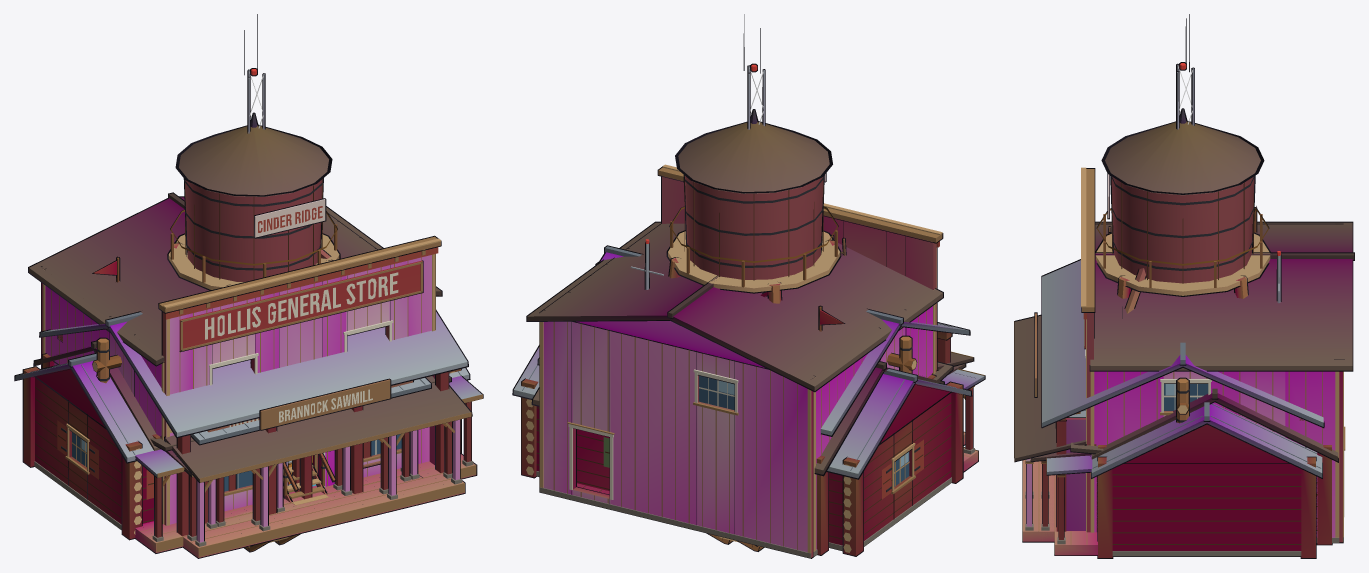
Rendered from fps-kit-frontier.glb.
The picture shows the model from 3 angles, left to right: view 1: azimuth 30°, elevation 25°; view 2: azimuth 150°, elevation 25°; view 3: azimuth 270°, elevation 25°; orthographic projection. The views are drawn at different scales.
Visible parts, largest first — view 1: KIT_FRONTIER_Store, KIT_FRONTIER_Landmark_WaterTower, KIT_FRONTIER_Mill, KIT_FRONTIER_Bunkhouse, KIT_FRONTIER_TradingPost, KIT_FRONTIER_Office, KIT_FRONTIER_Smithy, KIT_FRONTIER_Tower, KIT_FRONTIER_Arch, KIT_FRONTIER_RadioMast, KIT_FRONTIER_Stable; view 2: KIT_FRONTIER_Store, KIT_FRONTIER_Landmark_WaterTower, KIT_FRONTIER_Bunkhouse, KIT_FRONTIER_TradingPost, KIT_FRONTIER_Mill, KIT_FRONTIER_RadioMast, KIT_FRONTIER_Arch; view 3: KIT_FRONTIER_Store, KIT_FRONTIER_Bunkhouse, KIT_FRONTIER_Landmark_WaterTower, KIT_FRONTIER_Mill, KIT_FRONTIER_TradingPost, KIT_FRONTIER_RadioMast, KIT_FRONTIER_Arch.
Boxes of the visible parts, <box> form: KIT_FRONTIER_Store: <box>28,192,472,558</box>; KIT_FRONTIER_Landmark_WaterTower: <box>167,112,340,290</box>; KIT_FRONTIER_Mill: <box>39,309,468,546</box>; KIT_FRONTIER_Bunkhouse: <box>14,353,483,553</box>; KIT_FRONTIER_TradingPost: <box>33,340,452,551</box>; KIT_FRONTIER_Office: <box>205,430,422,529</box>; KIT_FRONTIER_Smithy: <box>191,377,431,523</box>; KIT_FRONTIER_Tower: <box>283,453,336,505</box>; KIT_FRONTIER_Arch: <box>92,337,122,383</box>; KIT_FRONTIER_RadioMast: <box>244,14,265,133</box>; KIT_FRONTIER_Stable: <box>150,376,451,492</box>; KIT_FRONTIER_Store: <box>526,164,974,558</box>; KIT_FRONTIER_Landmark_WaterTower: <box>666,109,846,303</box>; KIT_FRONTIER_Bunkhouse: <box>512,345,985,556</box>; KIT_FRONTIER_TradingPost: <box>531,361,966,555</box>; KIT_FRONTIER_Mill: <box>537,245,970,436</box>; KIT_FRONTIER_RadioMast: <box>743,14,765,129</box>; KIT_FRONTIER_Arch: <box>595,261,917,373</box>; KIT_FRONTIER_Store: <box>1014,167,1354,543</box>; KIT_FRONTIER_Bunkhouse: <box>1046,402,1322,558</box>; KIT_FRONTIER_Landmark_WaterTower: <box>1095,108,1271,318</box>; KIT_FRONTIER_Mill: <box>1034,259,1324,531</box>; KIT_FRONTIER_TradingPost: <box>1030,388,1338,545</box>; KIT_FRONTIER_RadioMast: <box>1176,14,1194,129</box>; KIT_FRONTIER_Arch: <box>1176,377,1189,423</box>.
Bounding box in the file's own units: 12.84 × 18.51 × 10.65.
1 material, 1 textured.
